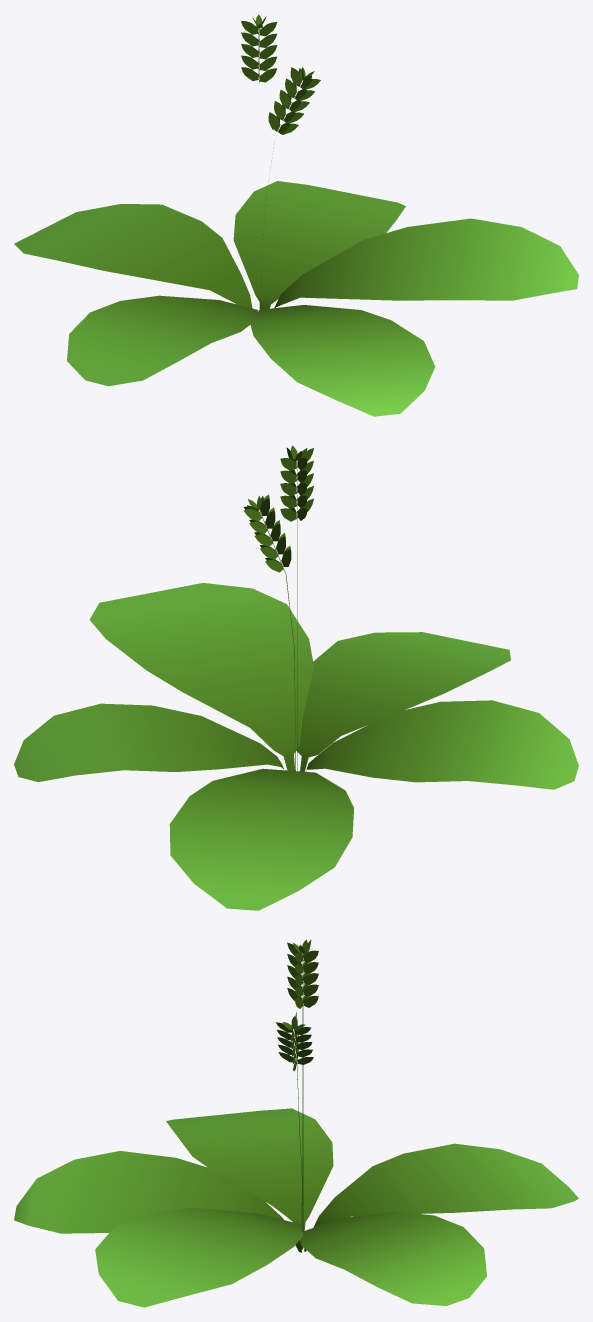
Rendered from plant1.fbx.
3 renders of one model, top to bottom at view 1: azimuth 30°, elevation 25°; view 2: azimuth 150°, elevation 25°; view 3: azimuth 270°, elevation 25°, orthographic. The views are drawn at different scales.
Parts seen in each view (by area): view 1: plant1; view 2: plant1; view 3: plant1.
Part boxes in pixels (left/top/right/bottom): plant1: left=14, top=14, right=578, bottom=416; plant1: left=14, top=445, right=578, bottom=910; plant1: left=14, top=939, right=578, bottom=1307.
Bounding box in the file's own units: 35.21 × 23.36 × 38.72.
